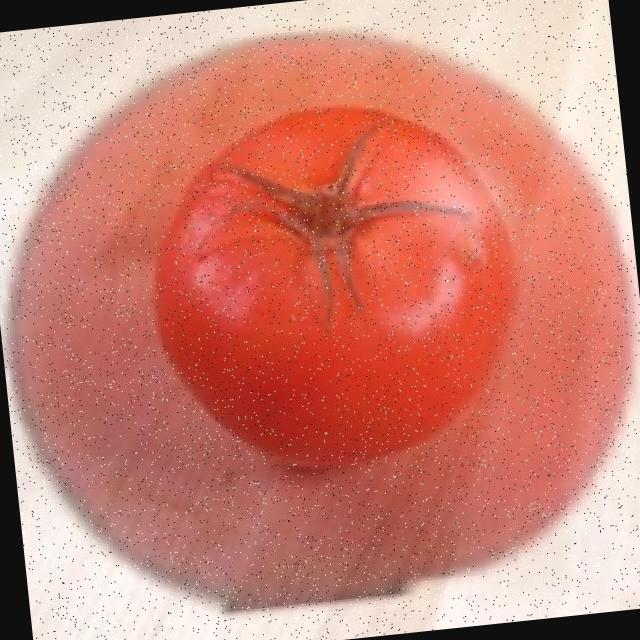tomato: (150, 104, 506, 467)
